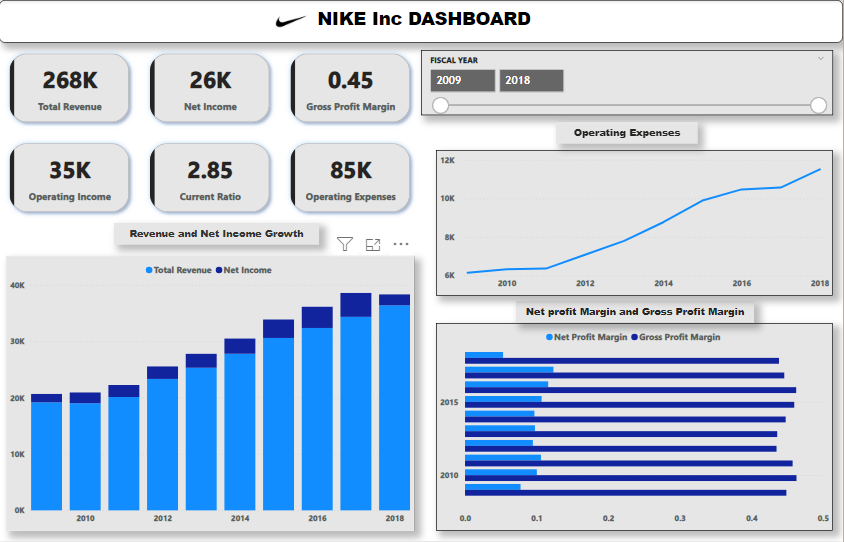

The page's visual inventory and layout, read from the dashboard file:
{"tool":"powerbi","page":{"name":"FINANCIAL OVERVIEW","canvas":[1280,820],"ordinal":0},"visuals":[{"type":"textbox","box":[0,0,1280,65.2],"z":0},{"type":"image","box":[397.3,0,88,65.2],"z":1000},{"type":"cardVisual","fields":{"Data":["Balance Sheet.Total Revenue","Balance Sheet.Net Income","Balance Sheet.Gross Profit Margin","Balance Sheet.Operating Income","Balance Sheet.Current Ratio","Balance Sheet.Operating Expenses"]},"box":[0,65.2,640,273],"z":2000},{"type":"slicer","fields":{"Values":["Profit & Loss Statement.Fiscal Year"]},"box":[640,75.8,624.8,98.6],"z":3000},{"type":"columnChart","fields":{"Category":["Balance Sheet.Fiiscal Year"],"Y":["Balance Sheet.Total Revenue","Balance Sheet.Net Income"]},"box":[10.6,388.2,618.8,417.1],"z":4000},{"type":"textbox","box":[174.4,338.2,310.9,33.4],"z":5000},{"type":"clusteredBarChart","fields":{"Category":["Balance Sheet.Fiiscal Year"],"Y":["Balance Sheet.Net Profit Margin","Balance Sheet.Gross Profit Margin"]},"box":[662.7,489.9,602.1,315.5],"z":6000},{"type":"textbox","box":[784.1,456.5,360.9,33.4],"z":7000},{"type":"lineChart","fields":{"Category":["Balance Sheet.Fiscal Year"],"Y":["Balance Sheet.Operating Expenses"]},"box":[662.7,227.5,602.1,221.4],"z":7001},{"type":"textbox","box":[844.7,185,215.4,33.4],"z":7002}]}

Visuals, with their boxes in screenshot pixels (x1, y1, x2, y2), scaled from the page's 1280x820 canvas onto the 844x542 screenshot:
textbox: region(0, 0, 843, 43)
image: region(262, 0, 320, 43)
cardVisual - Balance Sheet.Total Revenue x Balance Sheet.Net Income: region(0, 43, 422, 224)
slicer - Profit & Loss Statement.Fiscal Year: region(422, 50, 834, 115)
columnChart - Balance Sheet.Fiiscal Year x Balance Sheet.Total Revenue: region(7, 257, 415, 532)
textbox: region(115, 224, 320, 246)
clusteredBarChart - Balance Sheet.Fiiscal Year x Balance Sheet.Net Profit Margin: region(437, 324, 834, 532)
textbox: region(517, 302, 755, 324)
lineChart - Balance Sheet.Fiscal Year x Balance Sheet.Operating Expenses: region(437, 150, 834, 297)
textbox: region(557, 122, 699, 144)
